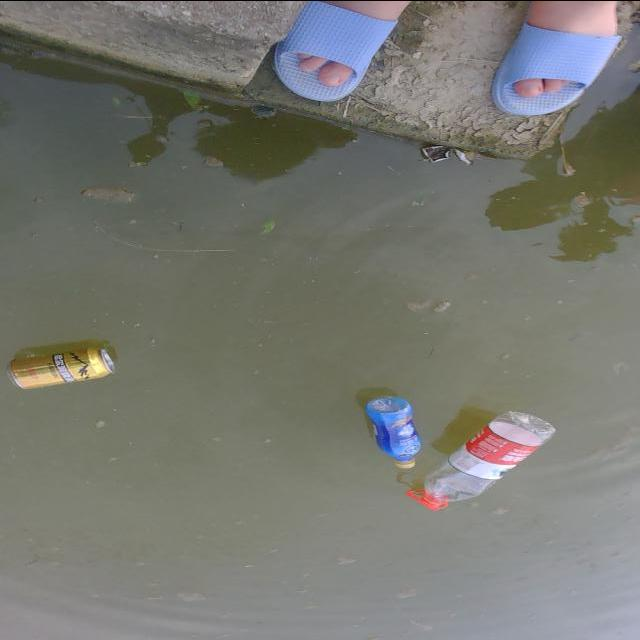bottle: (400, 392, 562, 522), (349, 381, 432, 474)
